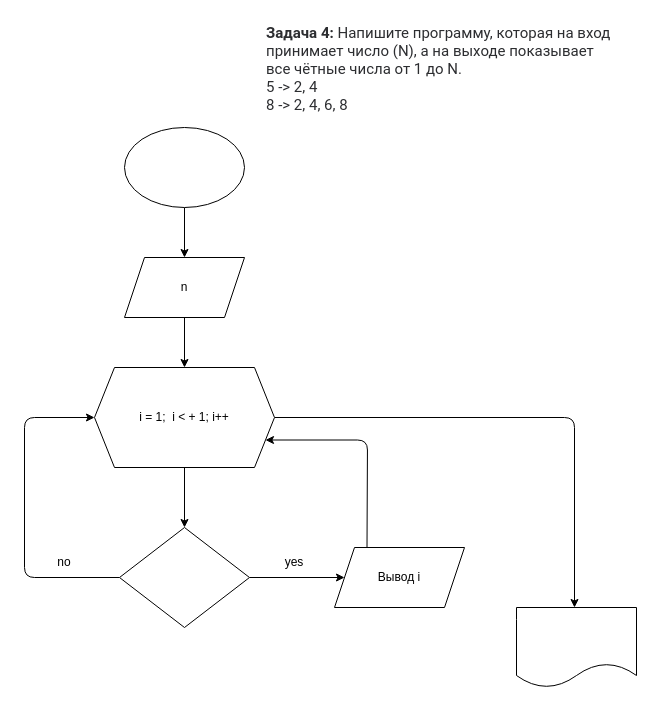
Image size: 654x705. Some labels were removed from this diagram. Here are the shapes that lost their labels. From the top down, the centre of each, then its label:
At point (184, 167): "start".
At point (184, 577): "i % 2 == 0".
